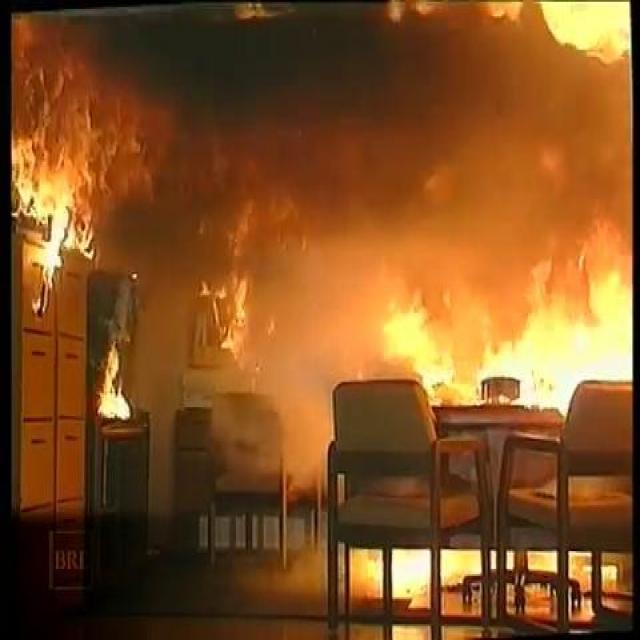Fire: (378, 282, 640, 407), (12, 66, 106, 322), (188, 278, 310, 376), (86, 339, 134, 429)
